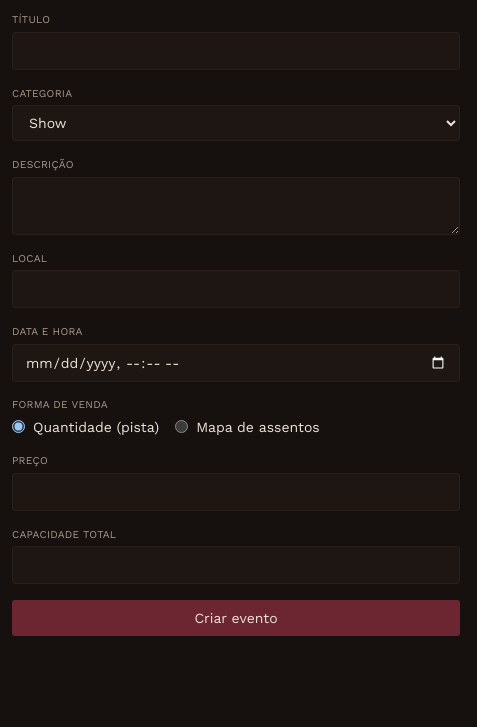
it: EventForm › switches to seatmap fields when "Mapa de assentos" is selected
What coordinates should you click on to do the following:
click the radio button labelled "Mapa de assentos"
I would click on:
 (182, 427)
Its box is [175,420,188,433].
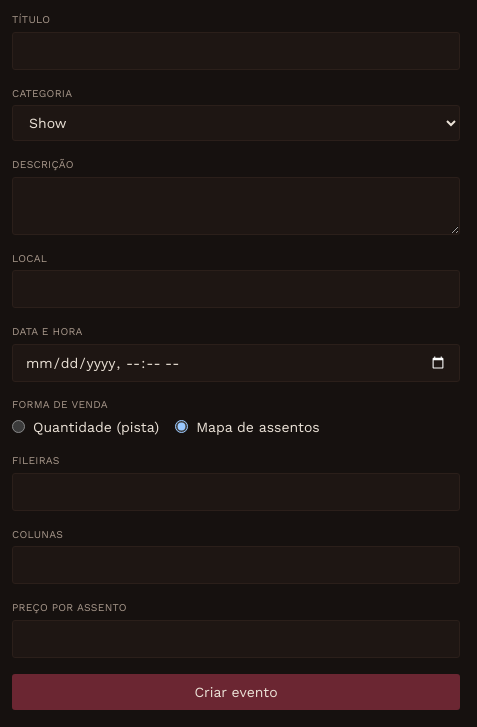
Expected: the label labelled "Capacidade total" is gone
